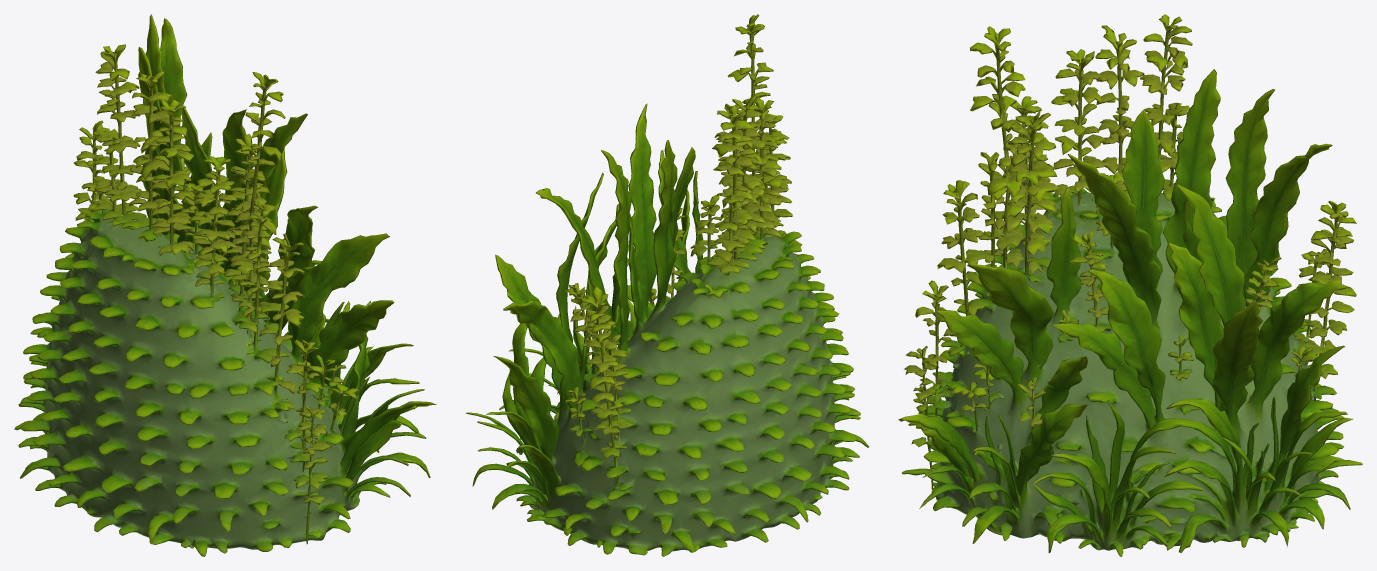
Rendered from plant_01.glb.
3 views of the same model, side by side, from view 1: azimuth 30°, elevation 25°; view 2: azimuth 150°, elevation 25°; view 3: azimuth 270°, elevation 25° (orthographic). The views are drawn at different scales.
Visible parts, largest first — view 1: tripo_node_ed373098-834a-43b0-986d-bc6021551a16; view 2: tripo_node_ed373098-834a-43b0-986d-bc6021551a16; view 3: tripo_node_ed373098-834a-43b0-986d-bc6021551a16.
Part boxes in pixels (x1,y1,x2,y2): tripo_node_ed373098-834a-43b0-986d-bc6021551a16: (14, 14, 436, 556); tripo_node_ed373098-834a-43b0-986d-bc6021551a16: (466, 14, 869, 556); tripo_node_ed373098-834a-43b0-986d-bc6021551a16: (898, 14, 1362, 556).
Size of the model in its own units: 0.7625 by 0.982 by 0.8976.
Materials: 1 (1 with a texture image).
